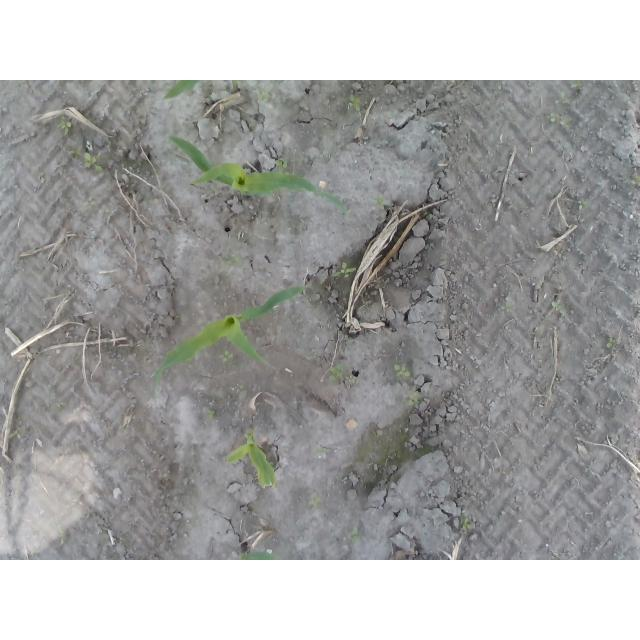Maize: (150, 285, 310, 402), (167, 136, 350, 217), (224, 433, 276, 488), (163, 80, 201, 100), (238, 552, 278, 561)
Weeds: (330, 263, 358, 280), (83, 151, 102, 173), (326, 364, 346, 384), (547, 113, 573, 128), (59, 117, 74, 140), (347, 526, 361, 546), (393, 363, 412, 377), (312, 446, 332, 459), (408, 390, 421, 409), (225, 255, 242, 268), (257, 91, 272, 105), (550, 303, 566, 316), (571, 82, 586, 95), (275, 158, 289, 171), (349, 97, 361, 112), (555, 95, 573, 105), (376, 198, 389, 211), (461, 516, 471, 532), (578, 199, 589, 212), (220, 351, 233, 362), (308, 497, 321, 508), (84, 198, 97, 209), (631, 172, 640, 187), (204, 408, 215, 420), (500, 303, 512, 314), (345, 376, 355, 385), (606, 341, 615, 350)
